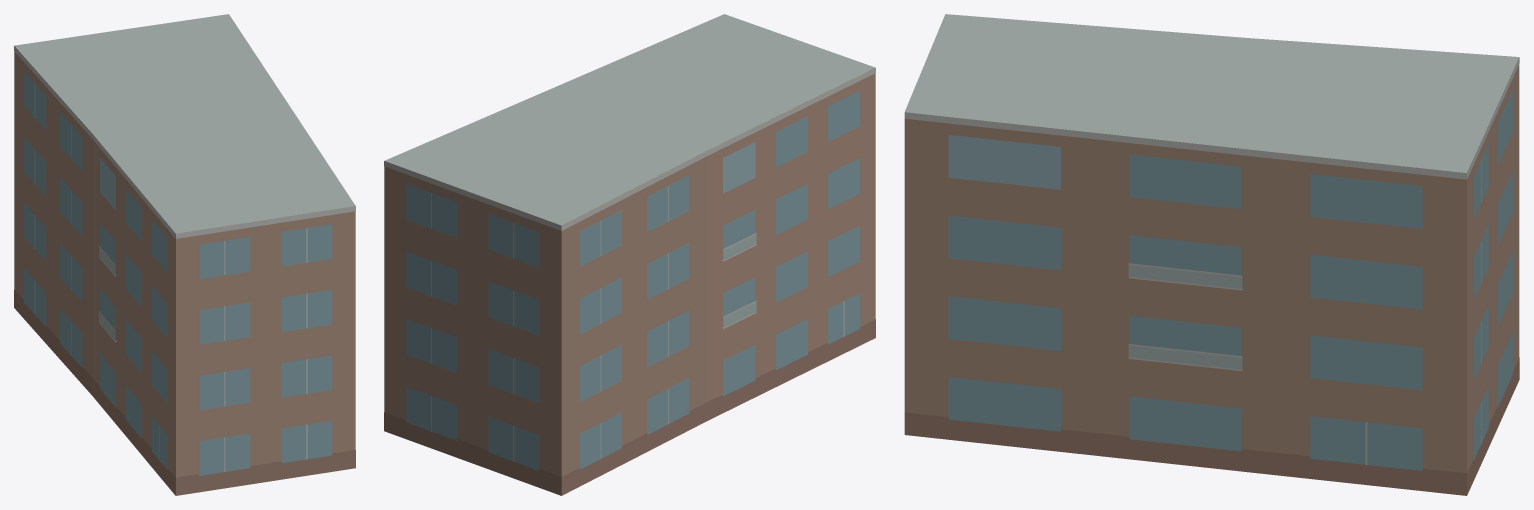
The model's file is survey-upis-32479646.glb.
3 views of the same model, side by side, from view 1: azimuth 30°, elevation 25°; view 2: azimuth 150°, elevation 25°; view 3: azimuth 270°, elevation 25° (orthographic). The views are drawn at different scales.
Visible parts, largest first — view 1: survey-upis-32479646.tmp; view 2: survey-upis-32479646.tmp; view 3: survey-upis-32479646.tmp.
Boxes of the visible parts, box(x1,y1,x2,y2) form: survey-upis-32479646.tmp: box(14, 14, 355, 495); survey-upis-32479646.tmp: box(384, 14, 875, 495); survey-upis-32479646.tmp: box(904, 14, 1519, 495).
Size of the model in its own units: 12.92 by 12.2 by 21.08.
